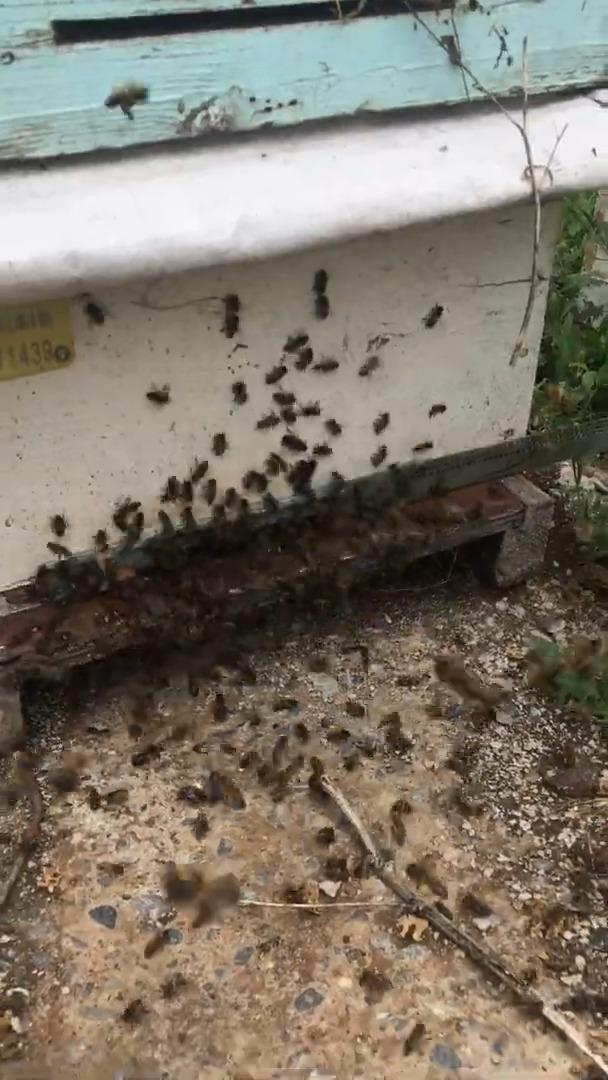worker-bee: (112, 499, 139, 531), (222, 293, 240, 338), (404, 1022, 425, 1055), (242, 469, 267, 494), (281, 431, 307, 452), (272, 734, 288, 768), (192, 811, 210, 841), (146, 384, 170, 406), (85, 300, 105, 325), (158, 509, 175, 537), (309, 755, 323, 789), (283, 333, 308, 352), (161, 476, 180, 501), (265, 364, 287, 384), (424, 305, 443, 328), (213, 692, 227, 722), (295, 346, 313, 369), (370, 445, 388, 468), (256, 412, 280, 429), (231, 380, 247, 405), (191, 460, 208, 483), (373, 412, 390, 435), (314, 294, 329, 319), (212, 432, 227, 456), (313, 269, 327, 293), (51, 514, 66, 536), (272, 390, 294, 405), (313, 358, 338, 371), (293, 721, 308, 742), (204, 478, 216, 504), (273, 697, 297, 710), (180, 479, 192, 503), (313, 443, 332, 457), (280, 407, 296, 423), (325, 419, 341, 435), (429, 405, 446, 417)
